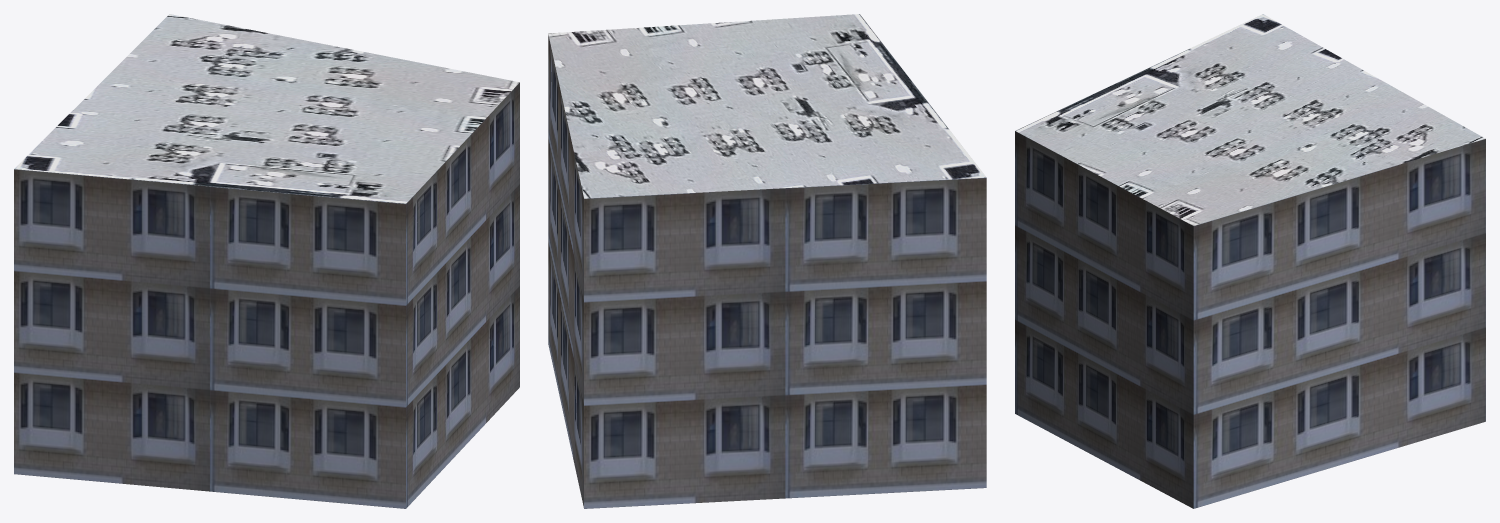
Rendered from ResTex__1576.fbx.
3 views of the same model, side by side, from view 1: azimuth 30°, elevation 25°; view 2: azimuth 150°, elevation 25°; view 3: azimuth 270°, elevation 25° (orthographic). The views are drawn at different scales.
Visible parts, largest first — view 1: CityEngineMaterial_3_m, CityEngineMaterial_m; view 2: CityEngineMaterial_3_m, CityEngineMaterial_m; view 3: CityEngineMaterial_3_m, CityEngineMaterial_m.
Boxes of the visible parts, x1,y1,x2,y2 form: CityEngineMaterial_3_m: (14, 82, 519, 508); CityEngineMaterial_m: (14, 14, 519, 203); CityEngineMaterial_3_m: (548, 35, 986, 508); CityEngineMaterial_m: (548, 14, 986, 198); CityEngineMaterial_3_m: (1015, 131, 1485, 508); CityEngineMaterial_m: (1015, 14, 1485, 225).
Size of the model in its own units: 14.47 by 9 by 13.57.
2 materials, 2 textured.
